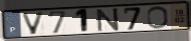1: (74, 7, 90, 34)
7: (48, 10, 68, 35), (123, 6, 143, 31)
N: (96, 7, 121, 33)
O: (147, 5, 171, 29)
V: (20, 11, 46, 36)
